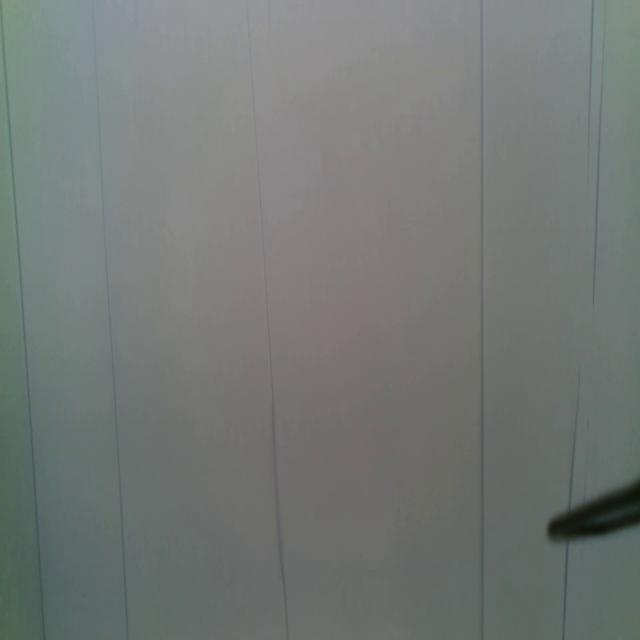crease: (1, 0, 46, 640), (246, 0, 290, 640), (91, 1, 130, 640), (478, 0, 487, 640), (592, 0, 608, 305), (568, 363, 582, 505), (587, 0, 595, 184), (560, 542, 570, 640)
